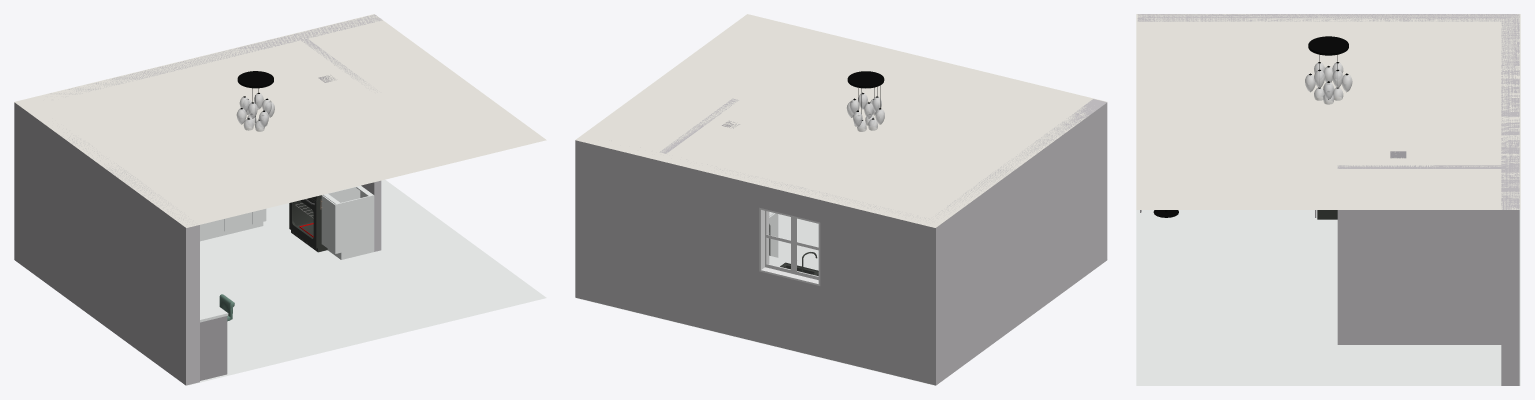
File: cuisine-tropicale.glb
3 renders of one model, left to right at view 1: azimuth 30°, elevation 25°; view 2: azimuth 150°, elevation 25°; view 3: azimuth 270°, elevation 25°, orthographic. The views are drawn at different scales.
Size of the model in its own units: 5.83 by 3.18 by 4.83.
Materials: 2 (2 with a texture image).
